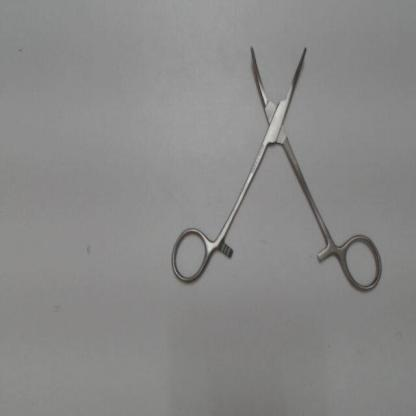Crile Artery Forceps: (165, 38, 387, 297)
